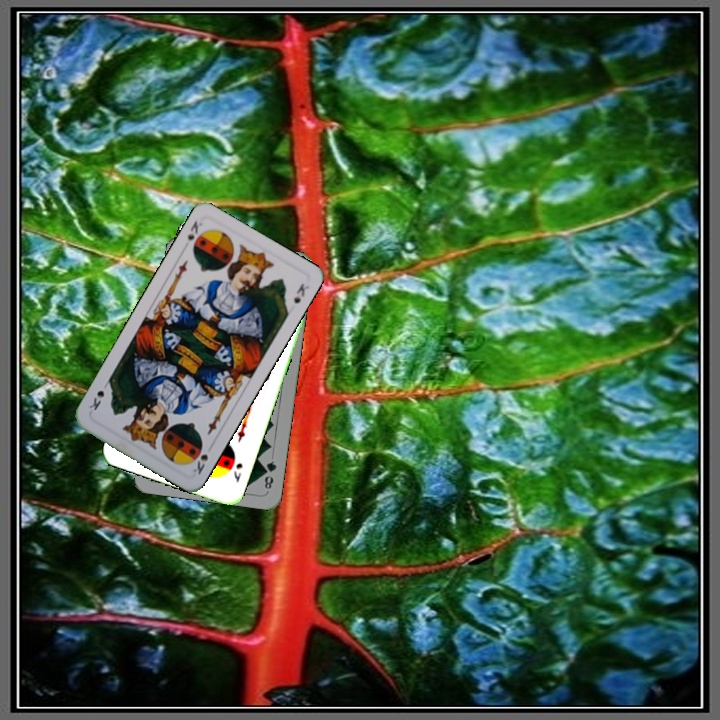G8: (260, 457, 279, 492)
SK: (183, 216, 207, 254), (187, 450, 211, 477), (230, 458, 245, 485)
